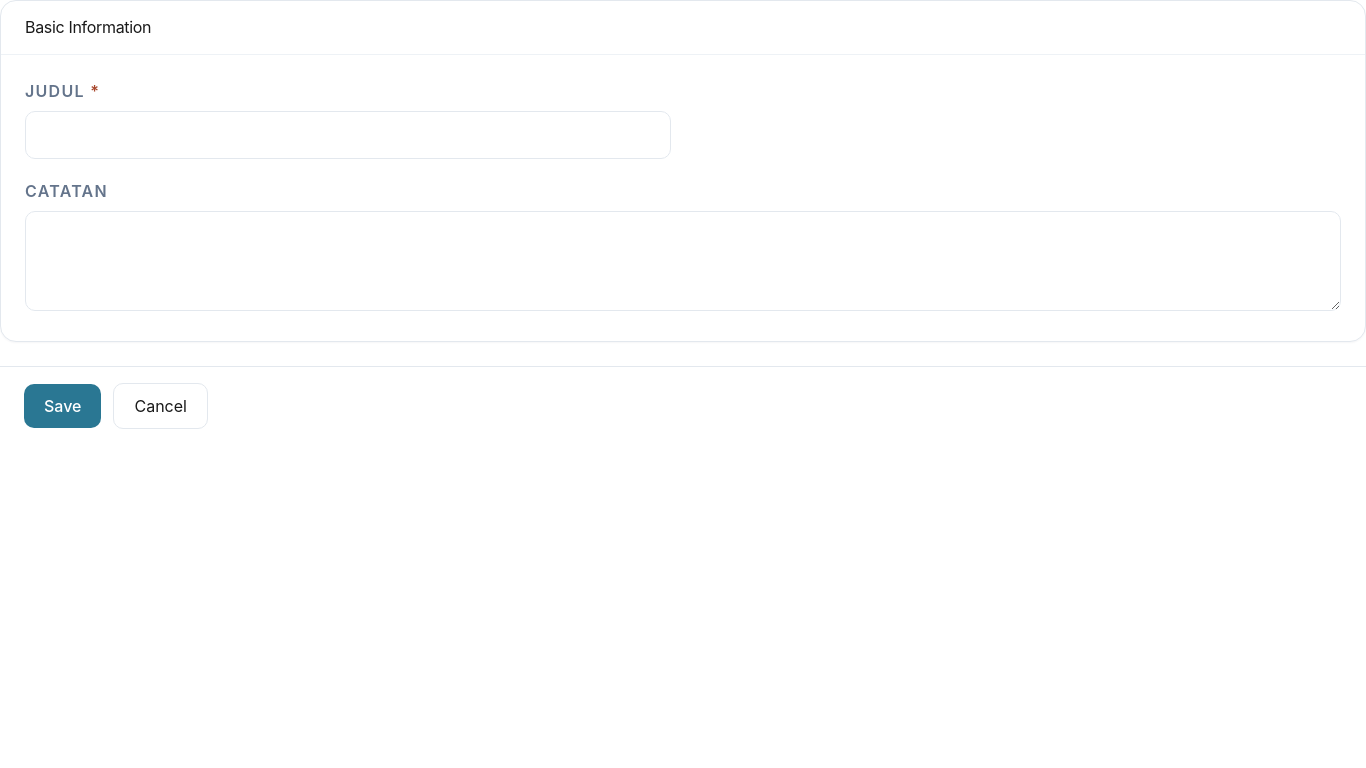
it: ResourceForm required-field validation › once every required field is filled, Save runs the action and toasts the fixed success message
Type "Judul contoh" into the field labelled "Judul *" at (348, 135), box x1=25 y1=111 x2=671 y2=159
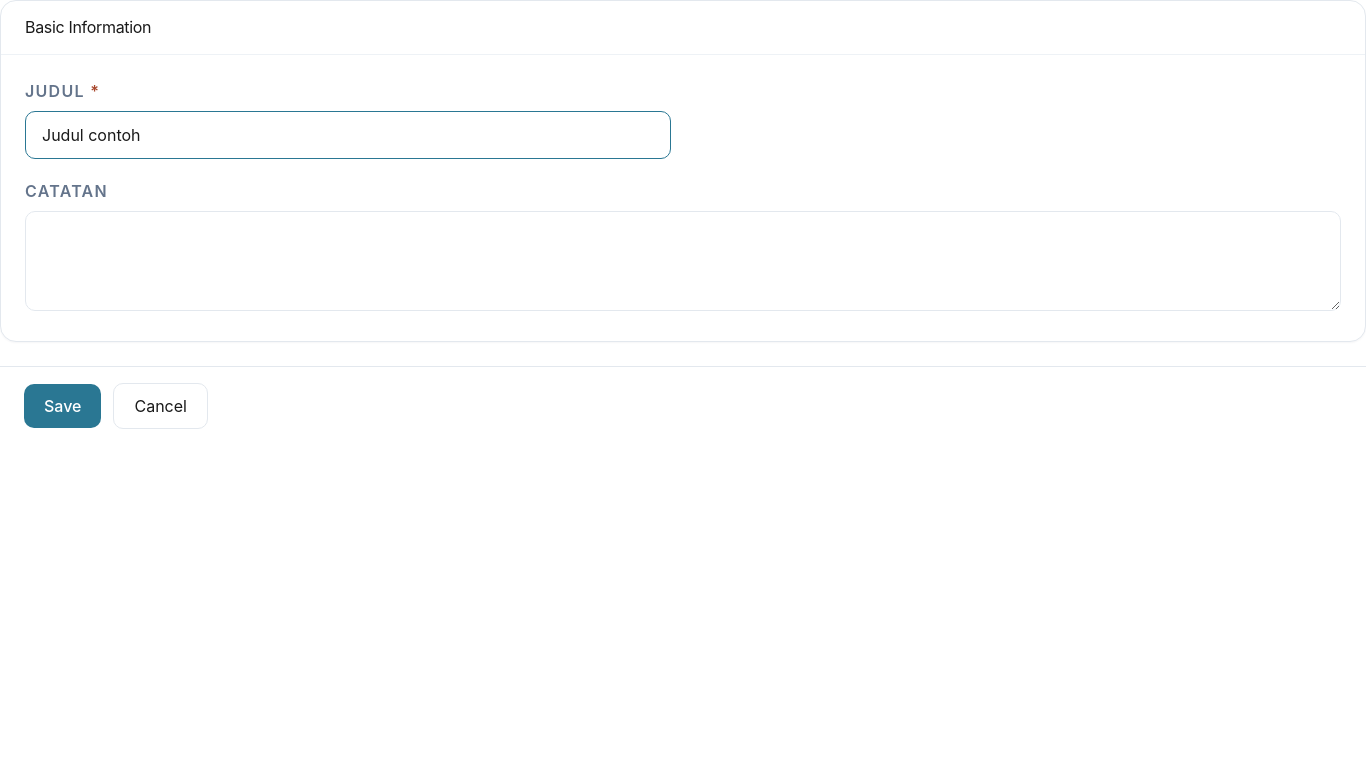
Click the button "Save" at (63, 406), box x1=24 y1=384 x2=102 y2=428
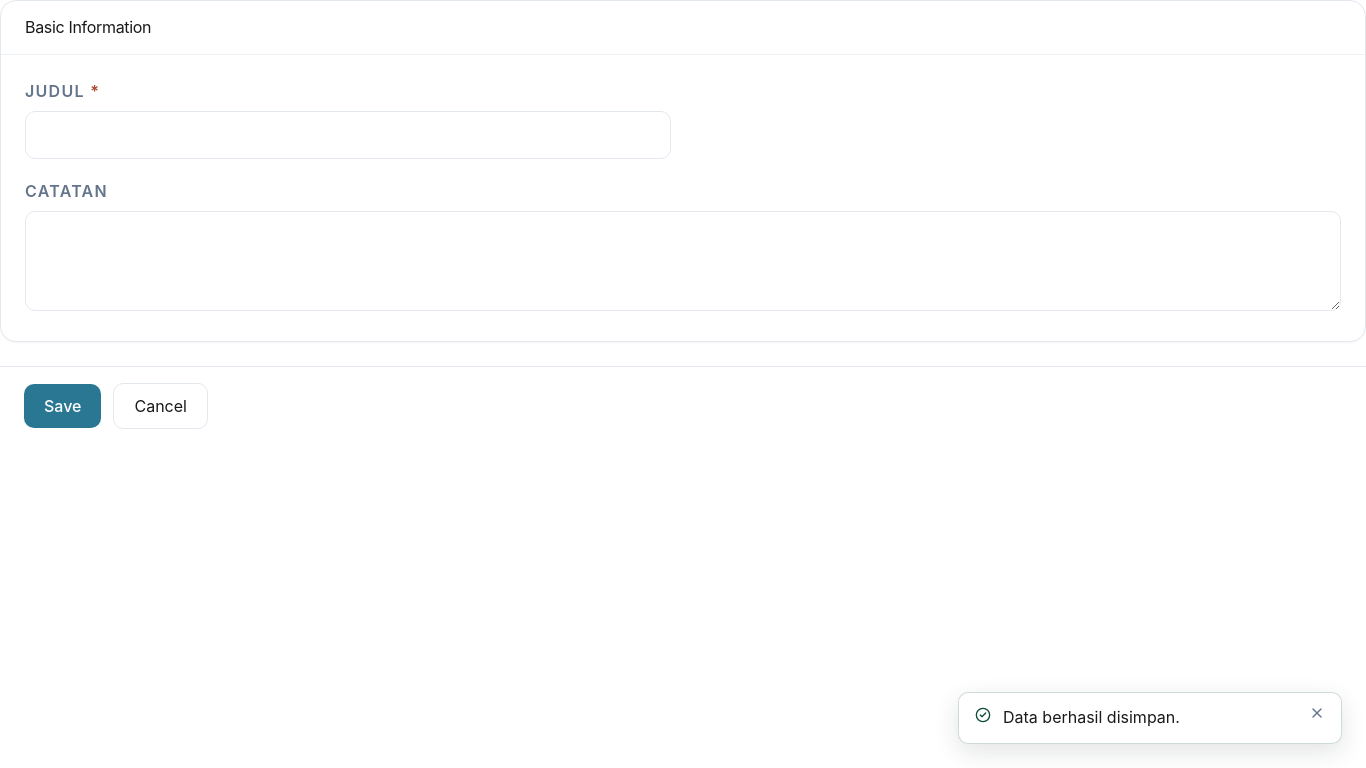
Now the text "Data berhasil disimpan." is shown, box x1=1003 y1=707 x2=1180 y2=727
